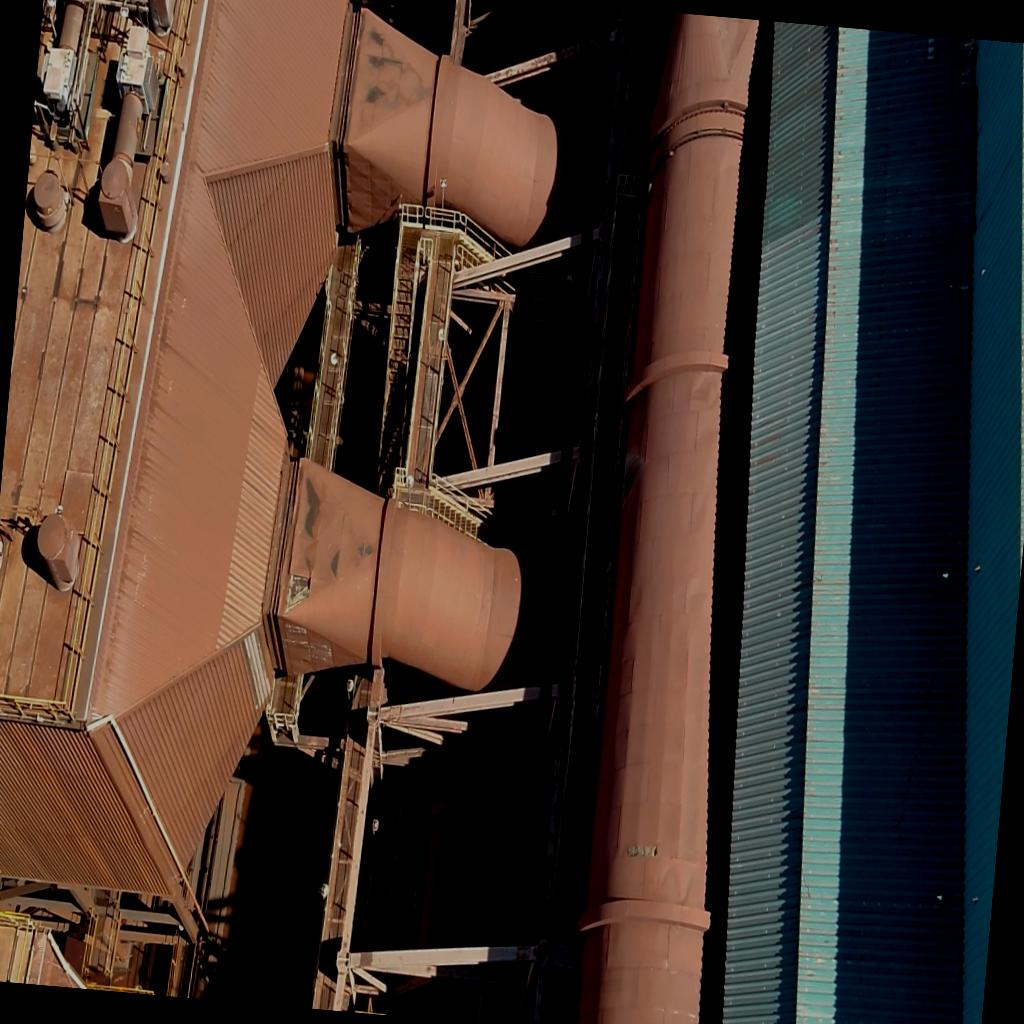Failures: (616, 830, 662, 868), (279, 570, 310, 615)
